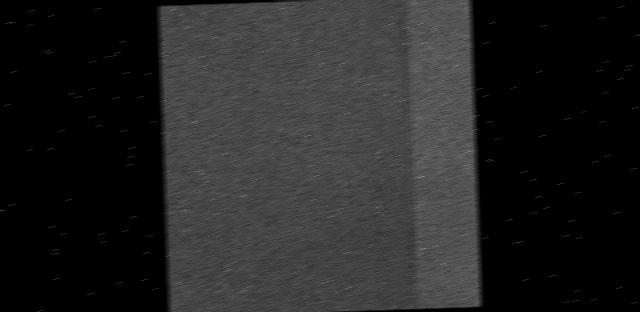welding_line: (394, 0, 432, 309)
